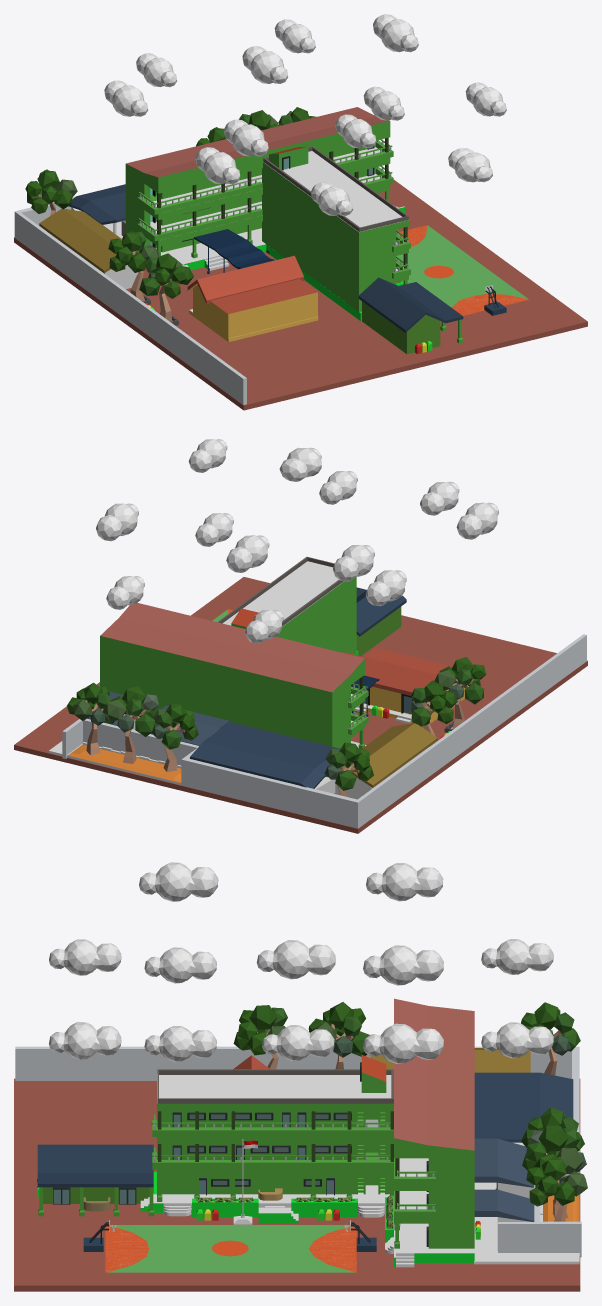
The model's file is sekolah 1.6.glb.
3 views of the same model, one above another, from view 1: azimuth 30°, elevation 25°; view 2: azimuth 150°, elevation 25°; view 3: azimuth 270°, elevation 25° (orthographic). The views are drawn at different scales.
Visible parts, largest first — view 1: Plane, Plane.002, bangunan lantai 2.003, Plane.001, ruang ukas dan ruang osis, bangunan lantai 2.002, Cube.047, bangunan lantai 2, bangunan lantai 2.001, Cube.006, bangunan lantai satu, bangunan lantai 1 (+16 smaller); view 2: Plane.001, bangunan lantai 2.003, Plane, bangunan lantai 2, Plane.002, bangunan lantai 2.002, ruang ukas dan ruang osis, Cube.006, Cube.047, Cube.008, bangunan lantai 2.001, Sphere.004 (+14 smaller); view 3: Plane, Plane.001, Plane.002, bangunan lantai 2.002, bangunan lantai 2.003, lantai.001, bangunan lantai 2.001, Cube.047, bangunan lantai satu, Cube.008, pembatas rooftop, bangunan lantai 2 (+18 smaller).
Boxes of the visible parts, x1,y1,x2,y2 form: Plane: (14,180,587,405); Plane.002: (14,181,587,410); bangunan lantai 2.003: (125,107,393,214); Plane.001: (14,184,246,404); ruang ukas dan ruang osis: (187,255,318,342); bangunan lantai 2.002: (138,139,410,258); Cube.047: (358,277,463,354); bangunan lantai 2: (125,147,393,241); bangunan lantai 2.001: (138,165,410,285); Cube.006: (39,208,138,289); bangunan lantai satu: (262,215,408,311); bangunan lantai 1: (125,174,390,258); Plane.001: (62,634,586,828); bangunan lantai 2.003: (100,602,368,718); Plane: (14,577,587,828); bangunan lantai 2: (100,662,368,745); Plane.002: (14,577,587,833); bangunan lantai 2.002: (222,561,367,702); ruang ukas dan ruang osis: (344,648,465,723); Cube.006: (327,723,437,799); Cube.047: (356,587,406,655); Cube.008: (48,741,335,793); bangunan lantai 2.001: (299,599,367,728); Sphere.004: (96,503,138,541); Plane: (14,1078,580,1285); Plane.001: (15,1046,581,1257); Plane.002: (14,1079,580,1291); bangunan lantai 2.002: (151,1074,435,1178); bangunan lantai 2.003: (394,998,474,1185); lantai.001: (140,1172,474,1267); bangunan lantai 2.001: (151,1119,435,1210); Cube.047: (37,1144,153,1203); bangunan lantai satu: (157,1152,393,1201); Cube.008: (474,1142,579,1264); pembatas rooftop: (157,1069,393,1103); bangunan lantai 2: (394,1158,474,1217).
Size of the model in its own units: 26.69 by 14.8 by 31.3.
100 materials, 9 textured.
